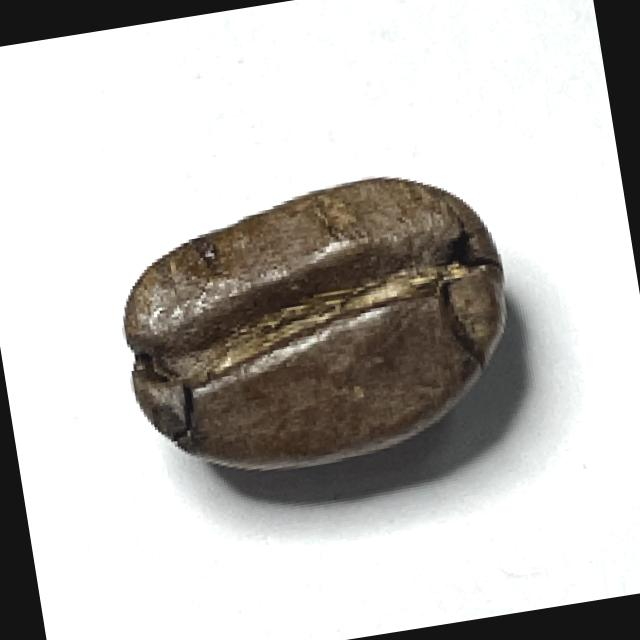bean: (103, 157, 530, 492)
